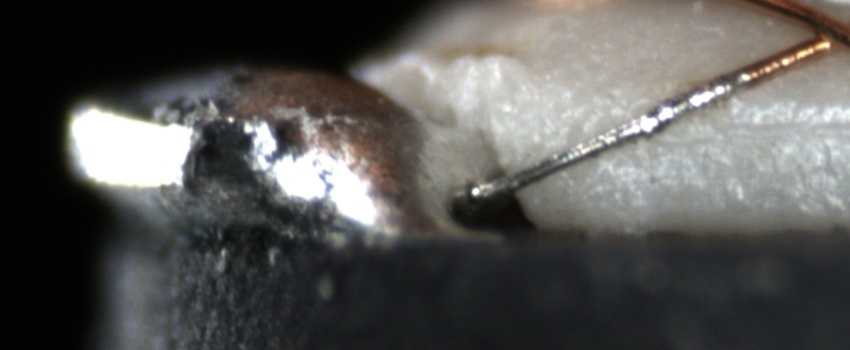CL: (792, 6, 848, 59)
DL: (643, 97, 850, 161)
TS: (473, 75, 744, 201)
